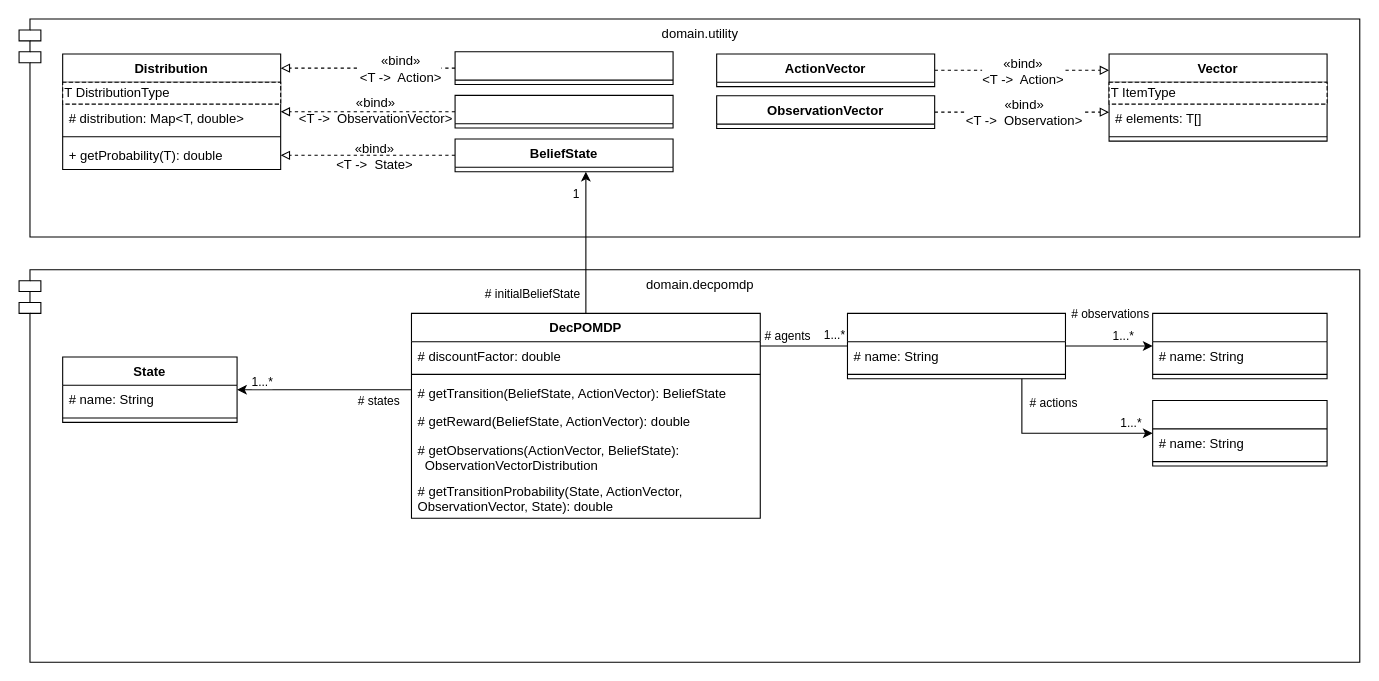
The diagram is 1379 pixels wide and 681 high, and some of its shapes have lost their labels. The shapes that lost their labels are listed below. From the top down, each one's box as (x1, y1, x2, y2) in pixels, then its label:
(454, 51, 673, 84): ActionDistribution
(454, 94, 673, 128): ObservationVectorDistribution
(846, 312, 1065, 379): Agent
(1152, 312, 1327, 379): Observation
(1152, 399, 1327, 466): Action
